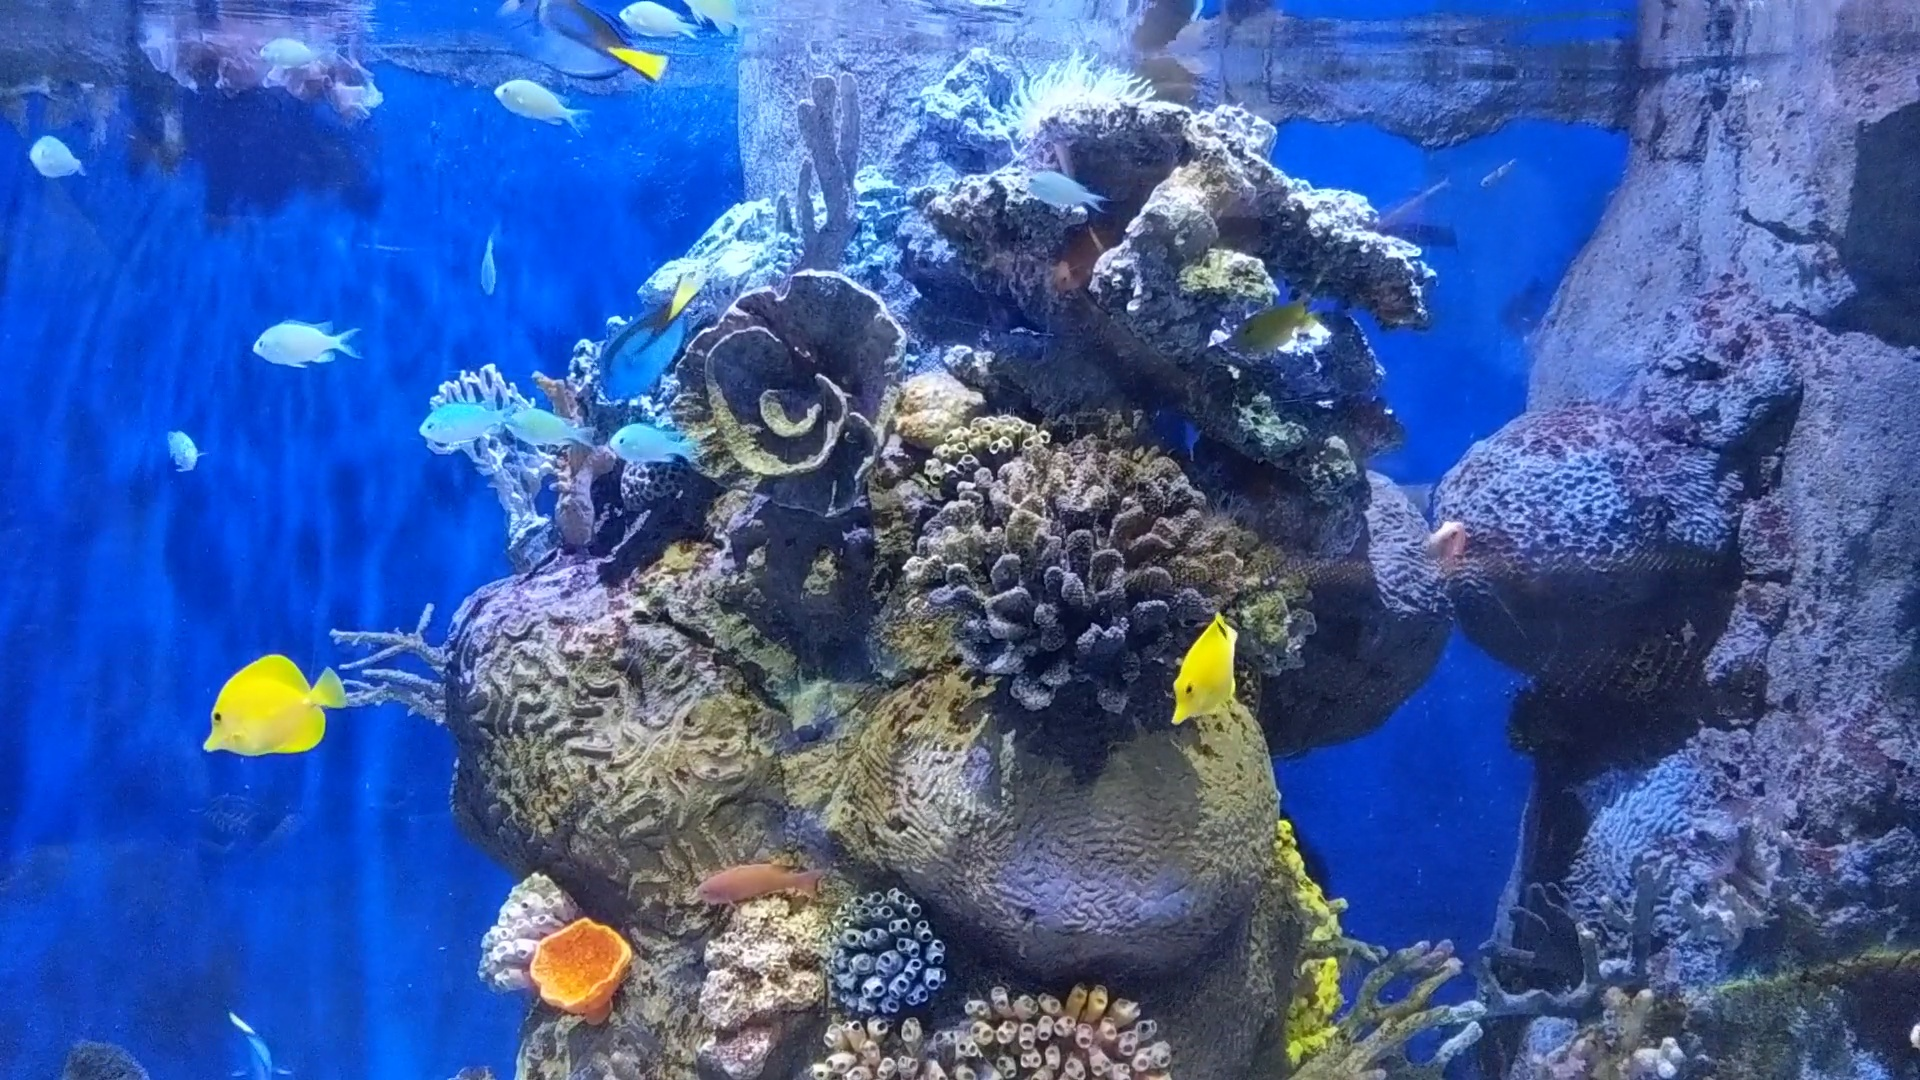blue tang surgeonfish: (476, 0, 680, 84), (580, 278, 707, 402)
damselfish: (495, 364, 603, 462), (237, 306, 356, 382), (411, 386, 522, 468), (473, 73, 589, 141), (612, 415, 717, 484), (1013, 153, 1102, 225), (597, 0, 715, 44), (462, 223, 506, 306), (29, 127, 88, 187)
pink fish: (1416, 520, 1470, 585)
saddle butterfly fish: (175, 646, 349, 770), (1151, 604, 1258, 742)
